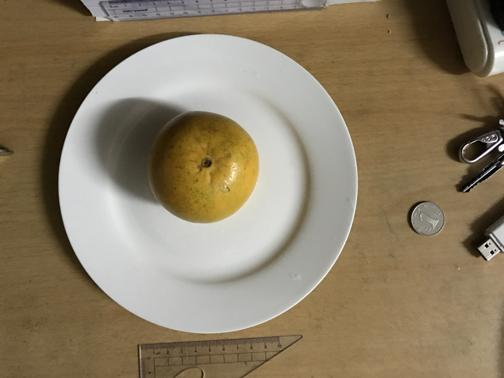coin: (410, 199, 444, 237)
orange: (148, 111, 261, 225)
